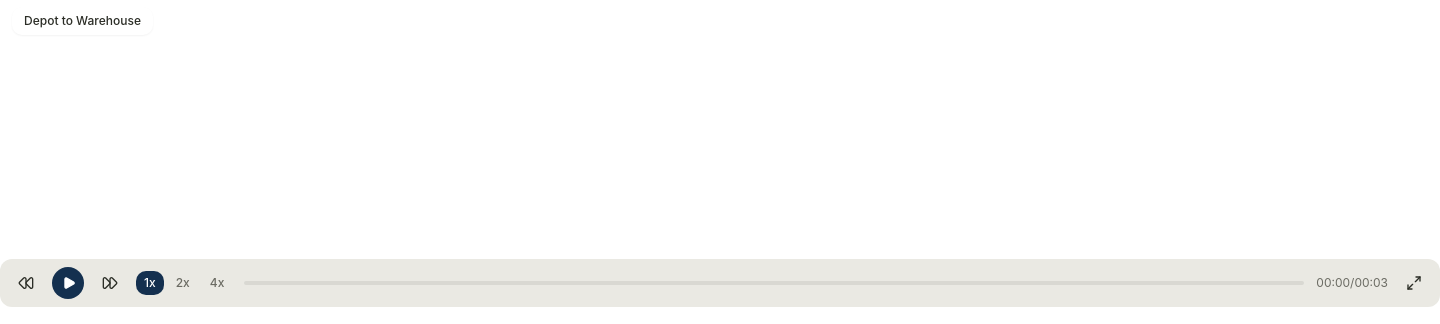
it: RouteMap › completes animation and stops at the final point when playing through all parts
Step 1. Click the button with test id "play-pause-button" → (68, 283), box [52,267,84,299]
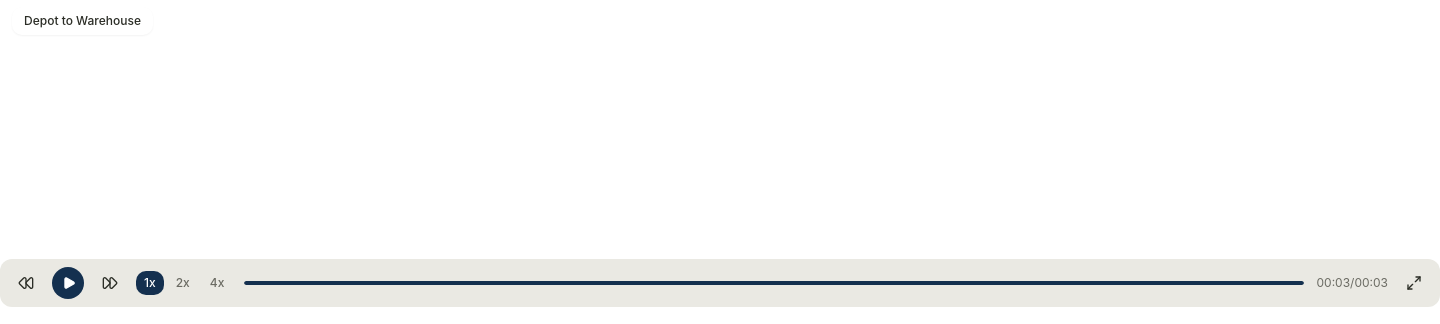
Expected: the icon with test id "play-icon" is shown, [62,276,76,290]
Result: the text "00:03/00:03" is shown at [1316,275,1388,291]
